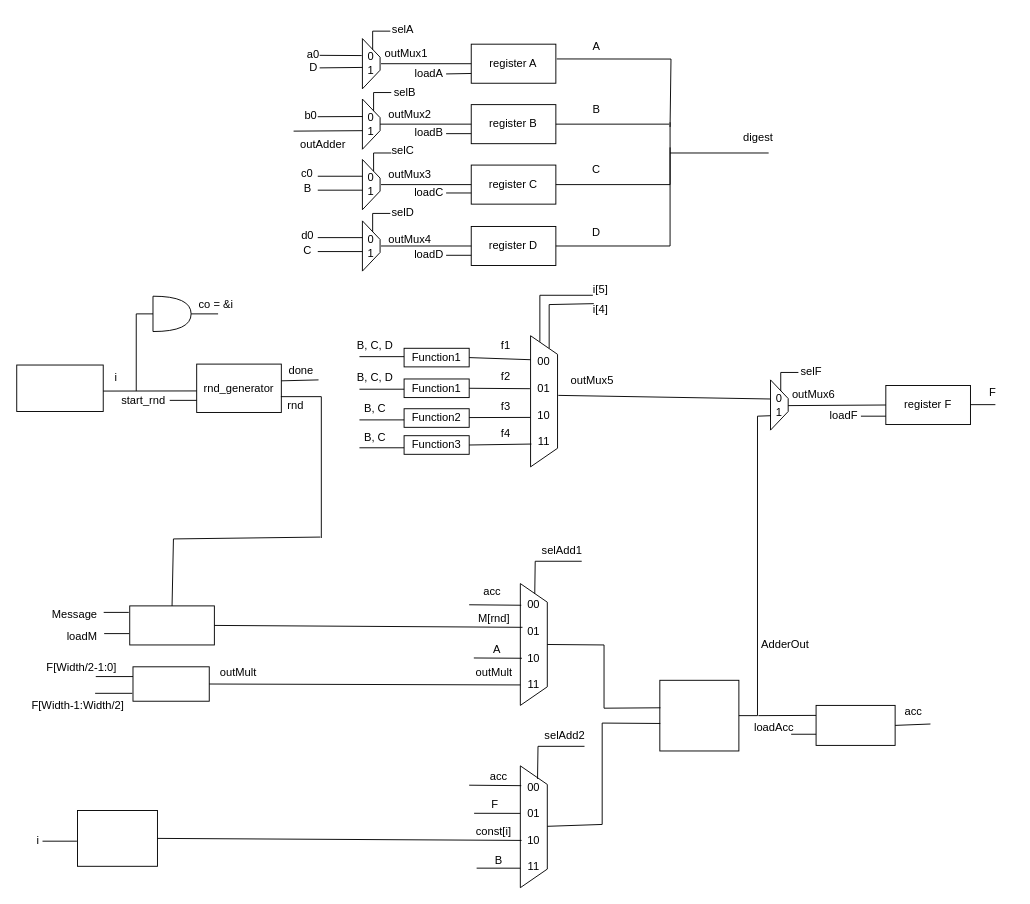
The diagram is 1030 pixels wide and 904 high, and some of its shapes have lost their labels. The shapes that lost their labels are listed below. From the top down, each one's centre as x and y in pixels, then its label:
the point at 59,388: 6bit counter
the point at 171,625: M File
the point at 170,683: Multiplier
the point at 699,715: Adder2opr
the point at 855,724: register Acc
the point at 117,838: constant memory
